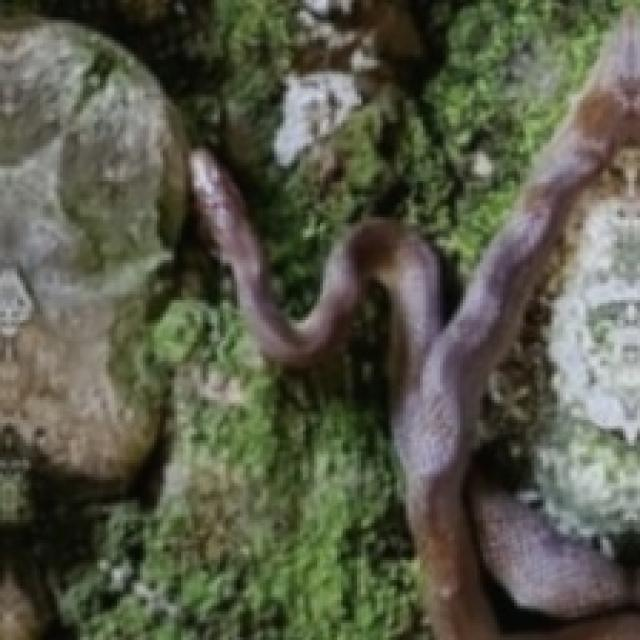reddish rat snake: (189, 14, 637, 637)
